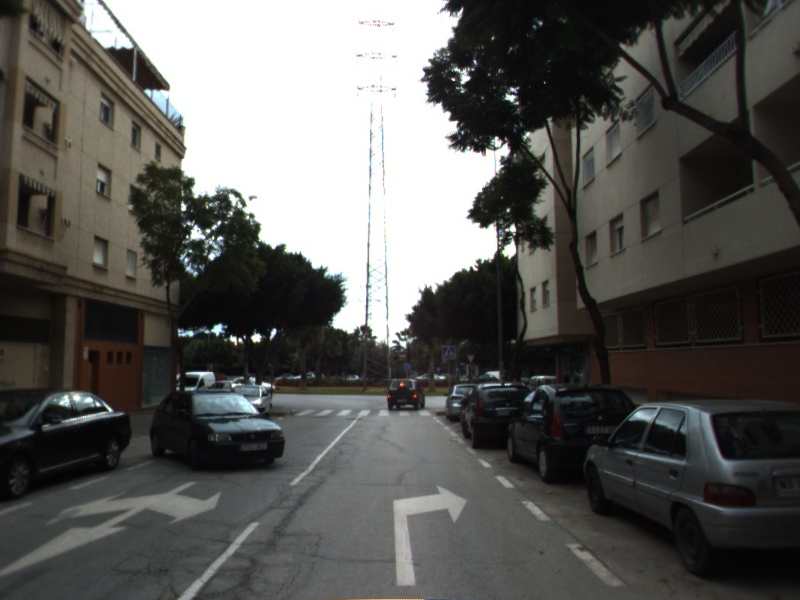RIGHT: (391, 481, 471, 588)
